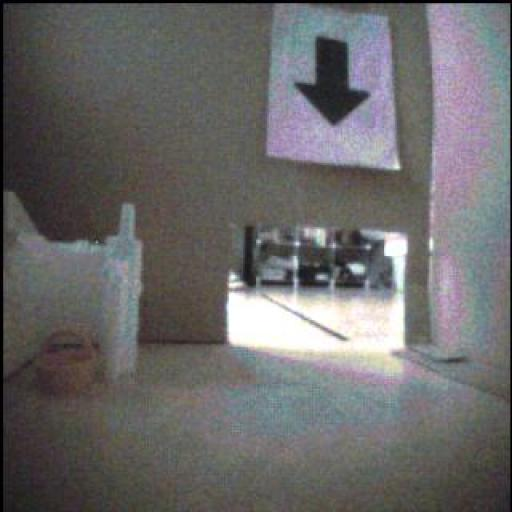arrow: (296, 38, 371, 126)
